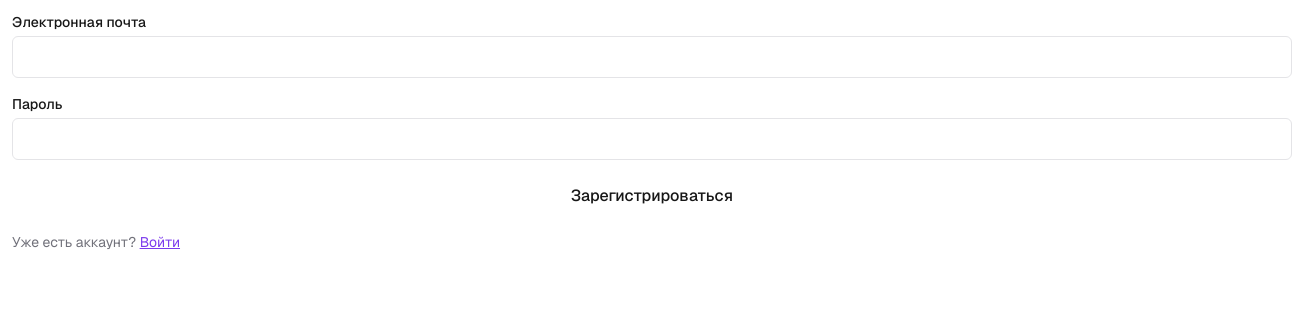
Scenario: SignUpForm › shows the missing config alert and keeps the email
Type "reader@example.com" into the field labelled "Электронная почта".
click(652, 57); type("reader@example.com")  # box [12,36,1292,78]
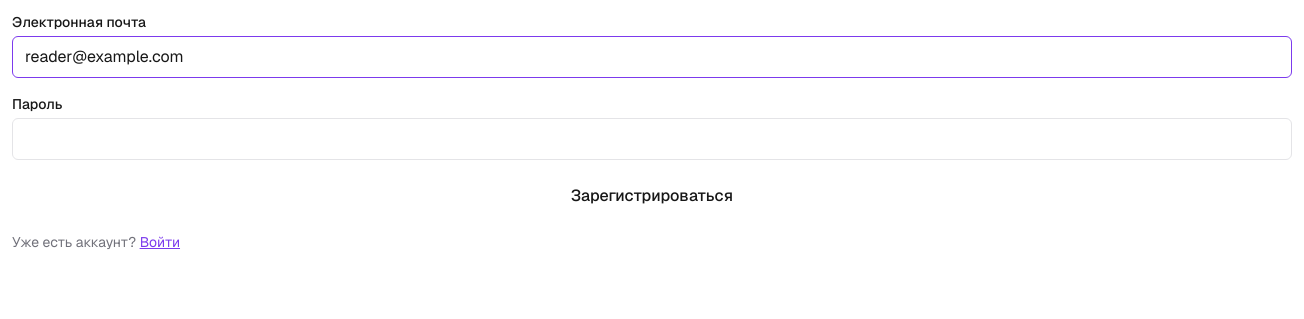
Type "secret-password-1" into the password field labelled "Пароль".
click(652, 139); type("secret-password-1")  # box [12,118,1292,160]
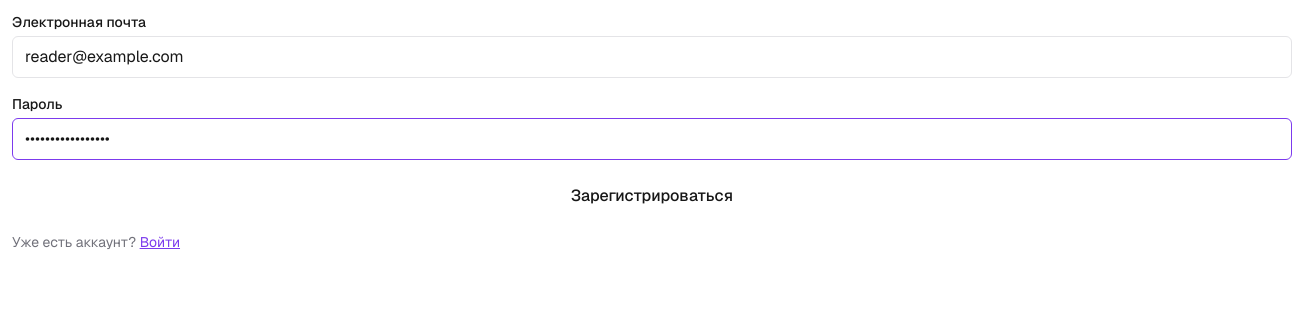
Click the button "Зарегистрироваться".
click(652, 196)  # box [12,176,1292,216]
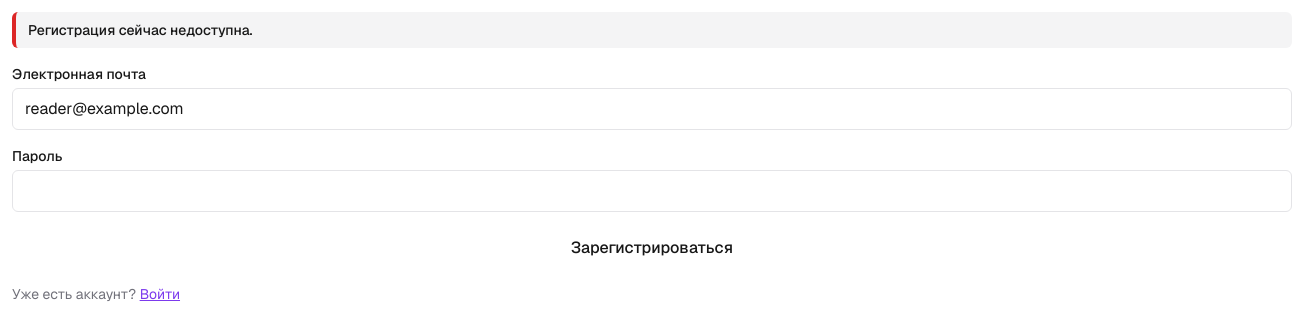
Expected: the message reads "Регистрация сейчас недоступна.", [28,21,253,39]
Expected: the password field labelled "Пароль" is empty, [12,170,1292,212]
